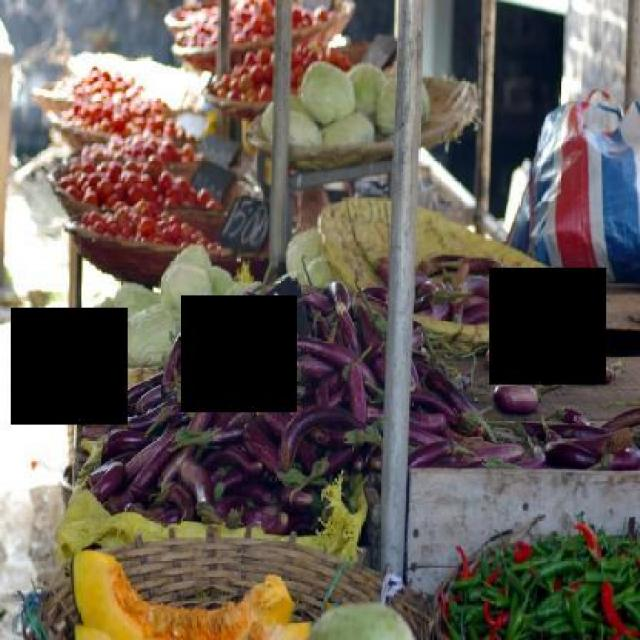plastic bag: (524, 86, 638, 286)
